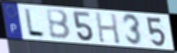3: (122, 12, 143, 48)
5: (71, 10, 95, 42), (145, 16, 167, 48)
B: (44, 9, 73, 41)
H: (94, 11, 122, 46)
L: (23, 7, 46, 39)
